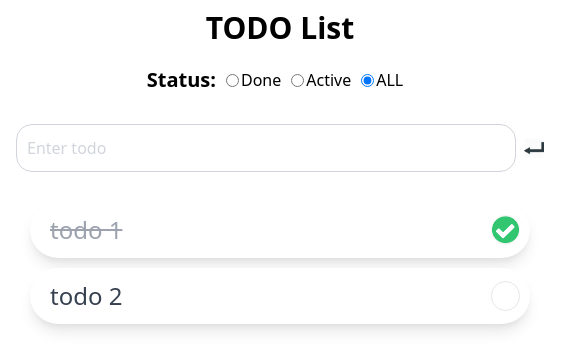
TodoApp › filter active todo
Click the label with test id "label-active" at [329, 80], box [306, 68, 351, 92]
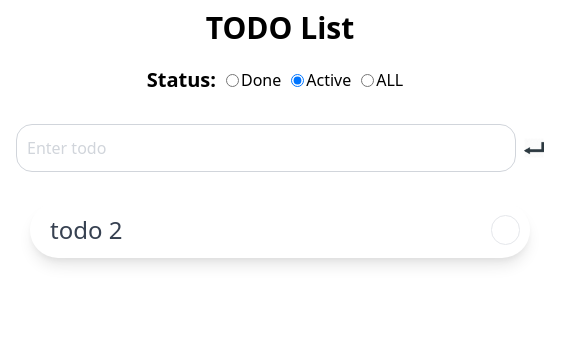
Now the text "todo 1" is gone
